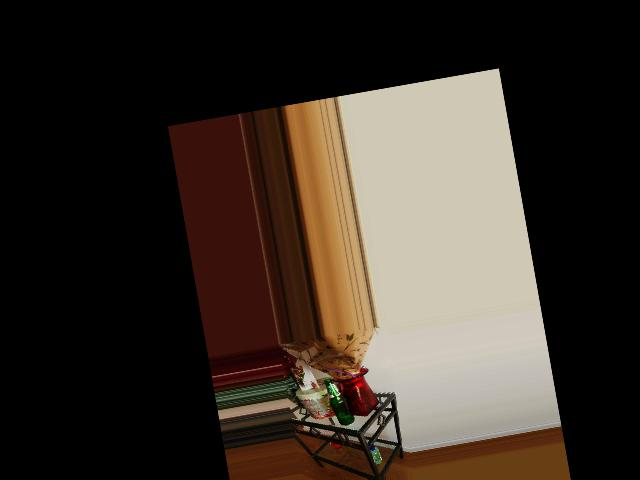beer: (324, 375, 354, 428)
